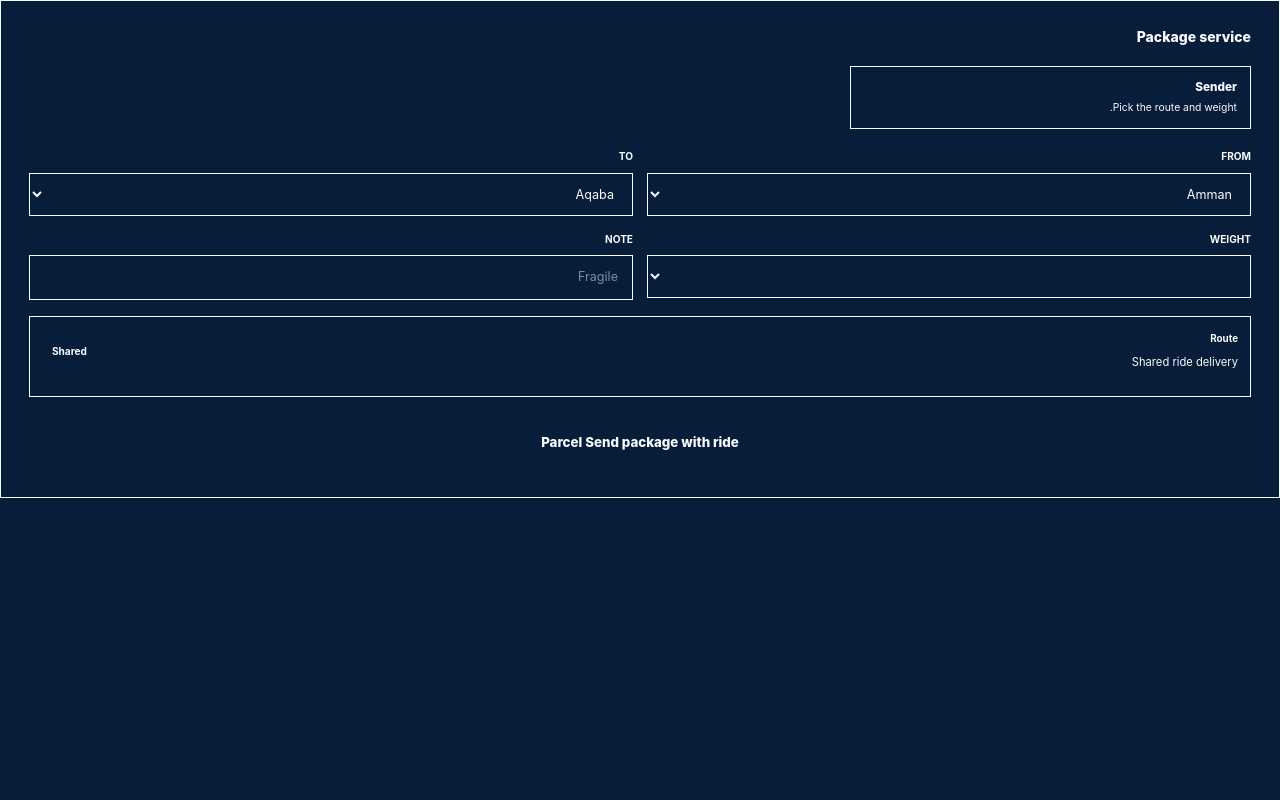
it: FindRidePackagePanel › surfaces the failure and stays on the form when creation throws
Step 1. Click the button "Parcel Send package with ride" → (640, 443), box [29, 417, 1251, 469]
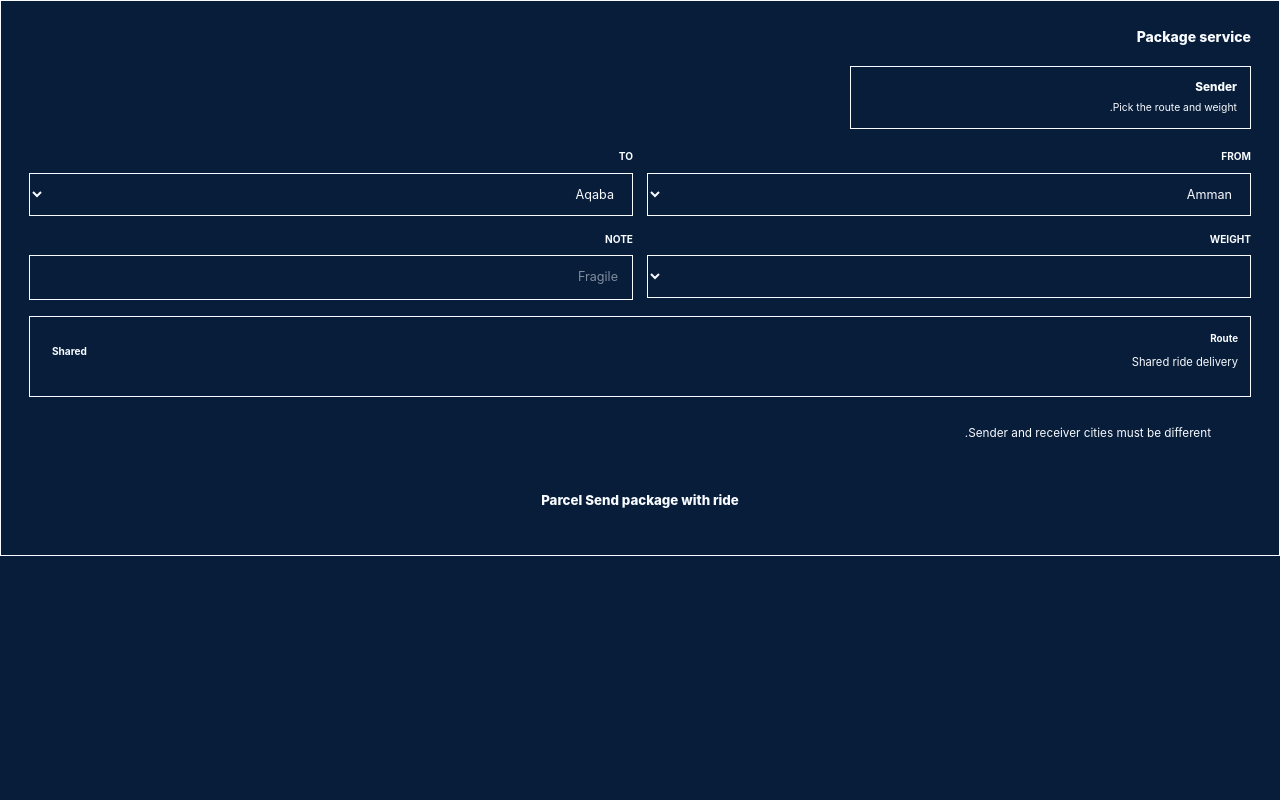
expect the button "Parcel Send package with ride" is shown: met, box [29, 475, 1251, 527]
expect the text with test id "find-ride-package-error" reads "Sender and receiver cities must be different.": met, box [965, 426, 1211, 440]
